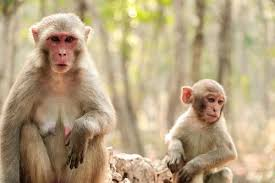monkey: (11, 7, 136, 182), (141, 76, 252, 164)
